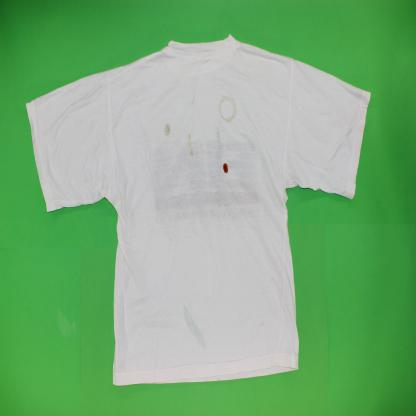stain: (215, 91, 239, 125), (186, 131, 196, 160), (163, 122, 172, 138), (222, 162, 230, 176)
